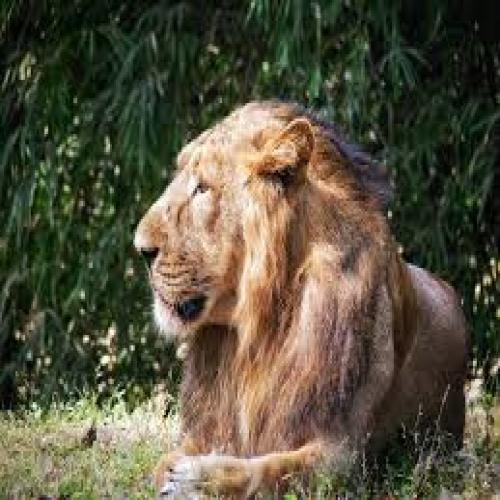lion-endangered: (130, 92, 464, 500)
